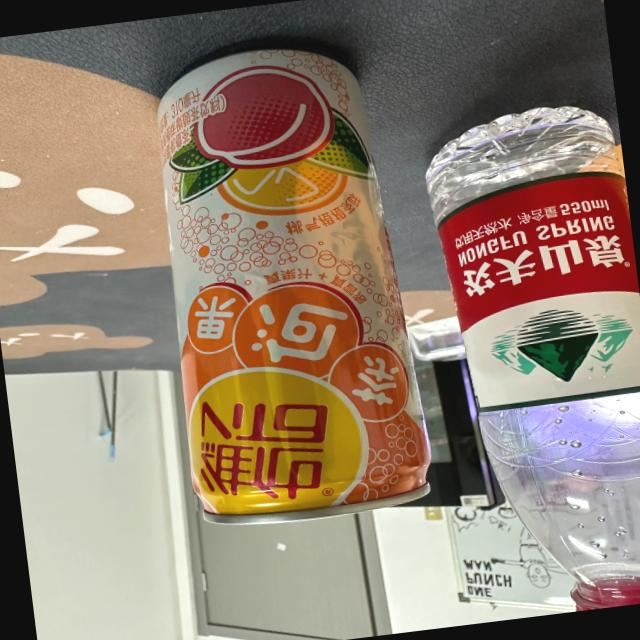bottle: (412, 93, 640, 622)
can: (136, 31, 442, 536)
